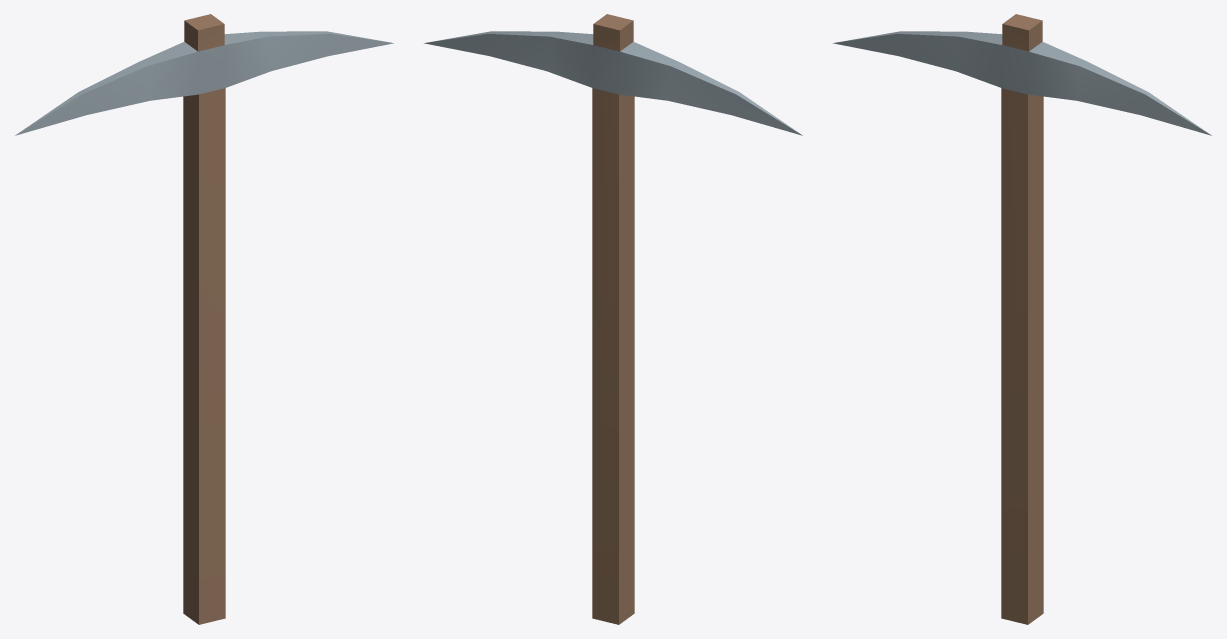
File: pickaxe.glb
3 renders of one model, left to right at view 1: azimuth 30°, elevation 25°; view 2: azimuth 150°, elevation 25°; view 3: azimuth 330°, elevation 25°, orthographic.
Parts seen in each view (by area): view 1: Object_2; view 2: Object_2; view 3: Object_2.
Boxes of the visible parts, x1=… form: Object_2: x1=15, y1=14, x2=393, y2=624; Object_2: x1=424, y1=14, x2=802, y2=624; Object_2: x1=833, y1=14, x2=1211, y2=624.
Size of the model in its own units: 0.5691 by 0.8486 by 0.0402.
1 material, 1 textured.
